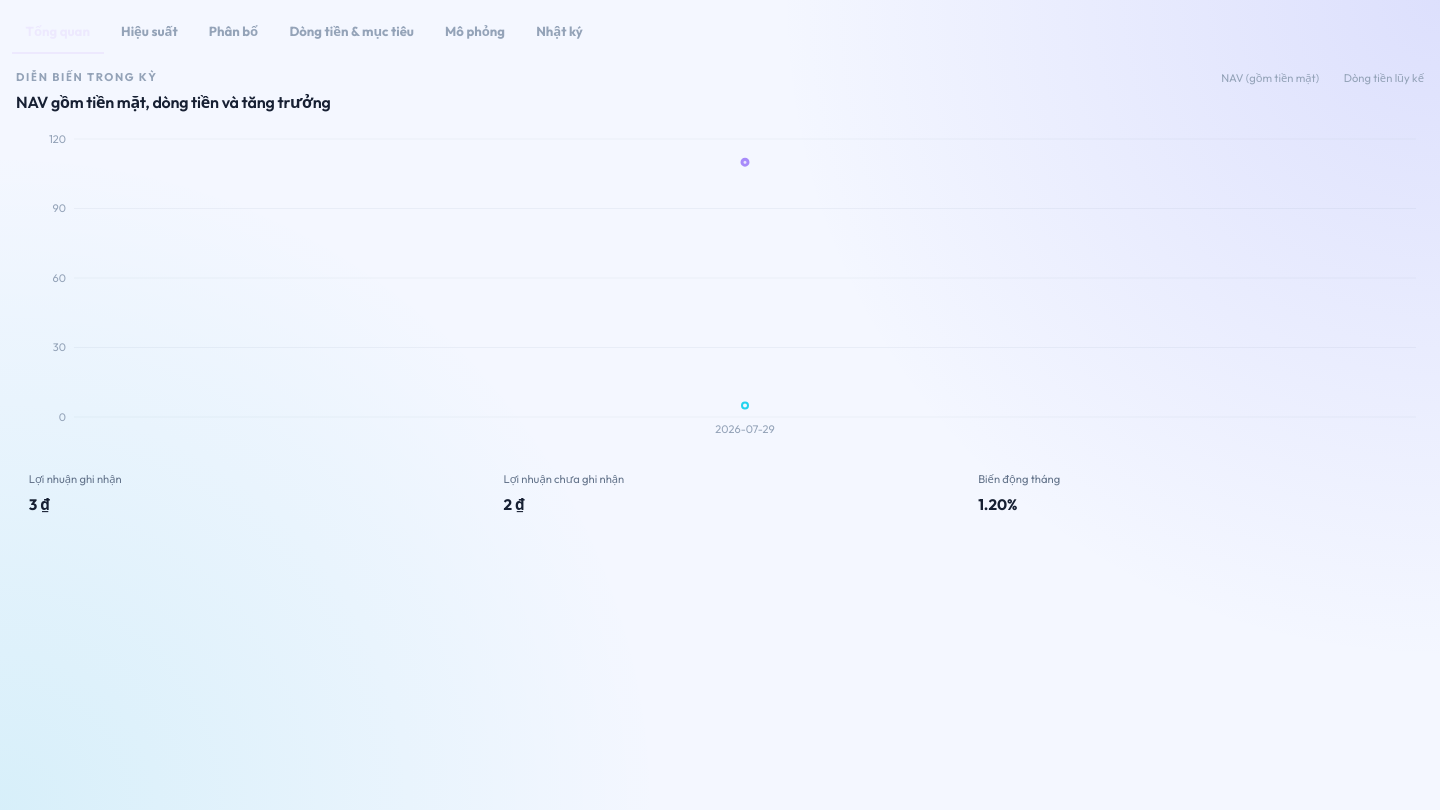
Test: AnalyticsWorkspace › switches workspace content without losing tab semantics
What coordinates should you click on to do the following:
click the tab "Phân bổ"
I would click on:
 (234, 32)
Its box is [195,10,272,54].
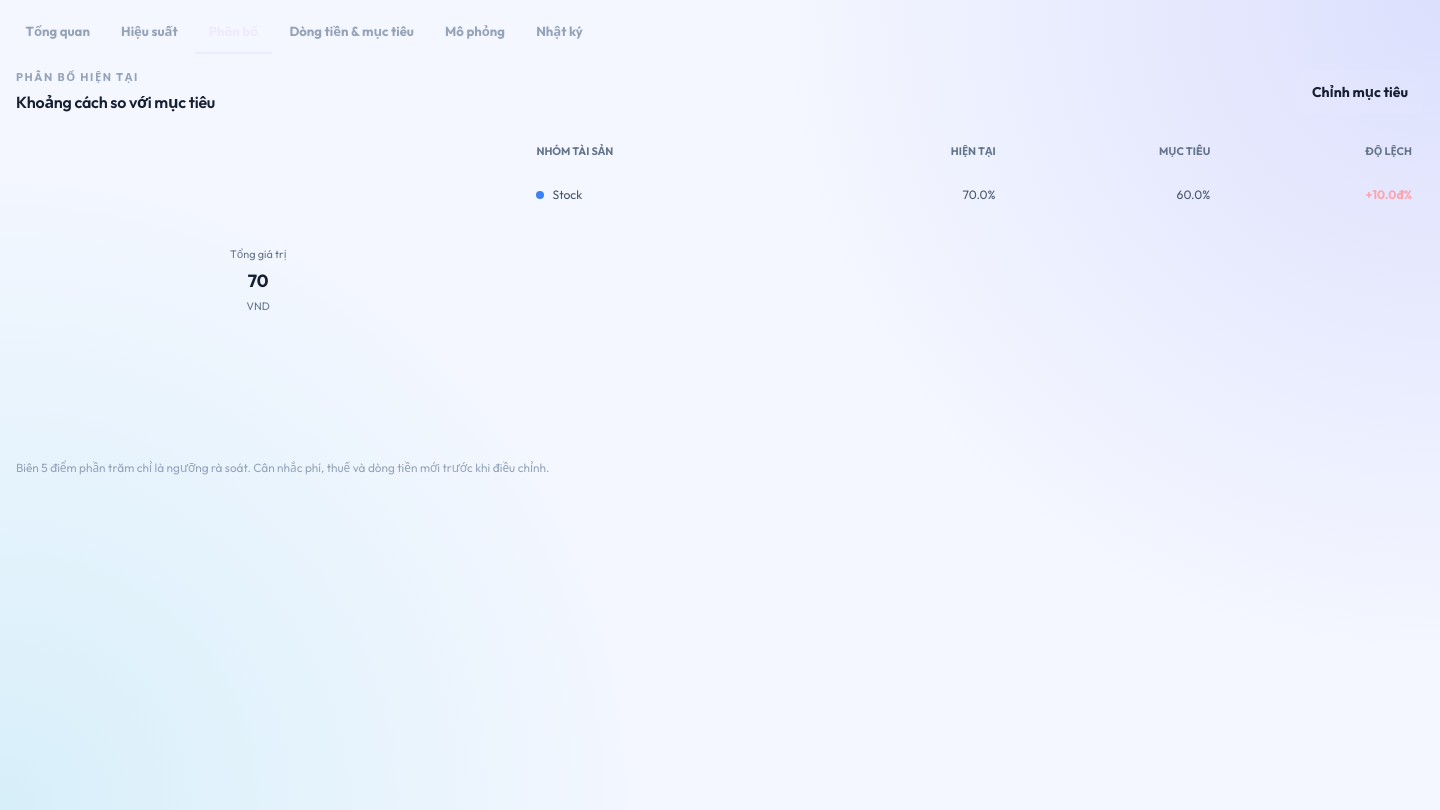
Expected: the heading "Khoảng cách so với mục tiêu" is shown, [16,90,215,115]
